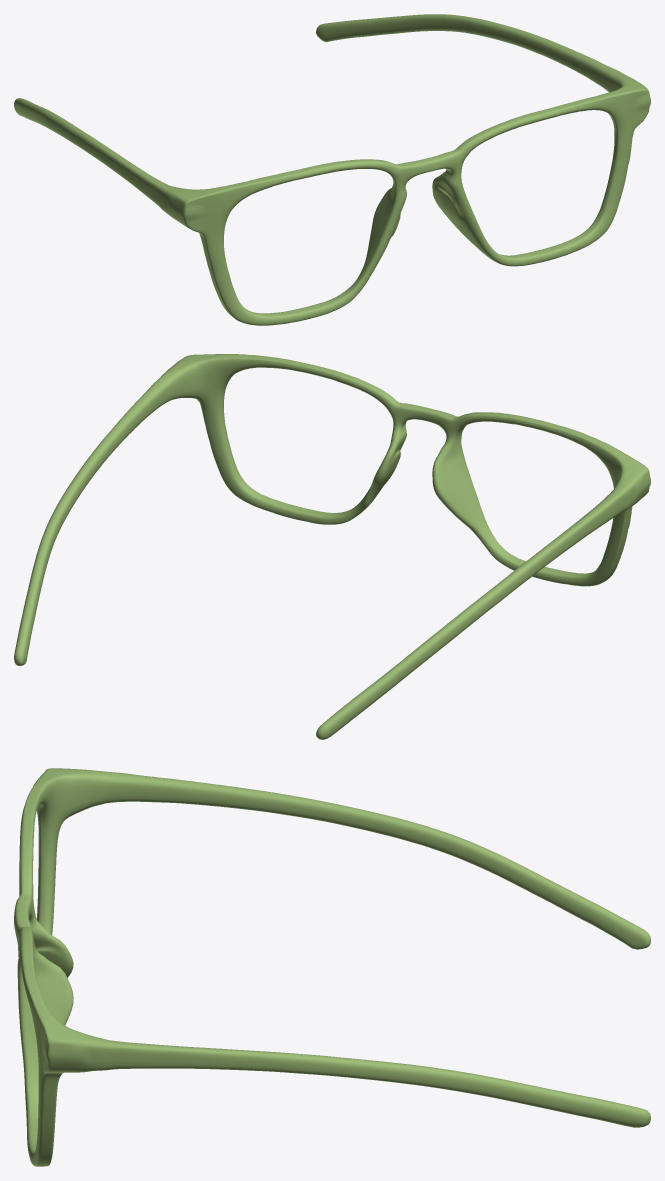
Rendered from glass5.glb.
3 views of the same model, one above another, from view 1: azimuth 30°, elevation 25°; view 2: azimuth 150°, elevation 25°; view 3: azimuth 270°, elevation 25° (orthographic). The views are drawn at different scales.
Visible parts, largest first — view 1: model; view 2: model; view 3: model.
Boxes of the visible parts, bbox=[...] form: model: bbox=[14, 14, 650, 325]; model: bbox=[14, 354, 650, 739]; model: bbox=[14, 768, 650, 1166].
Bounding box in the file's own units: 1.9 × 0.5838 × 1.85.
